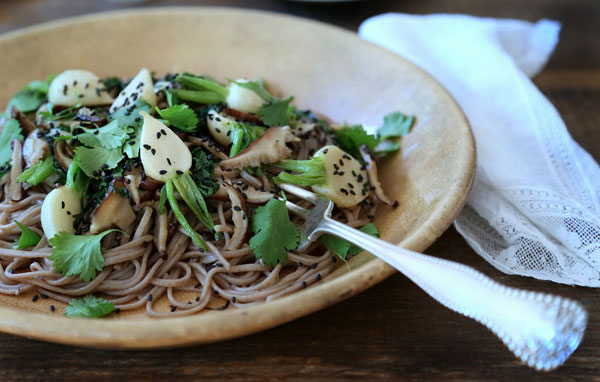Soba: (4, 91, 401, 319)
